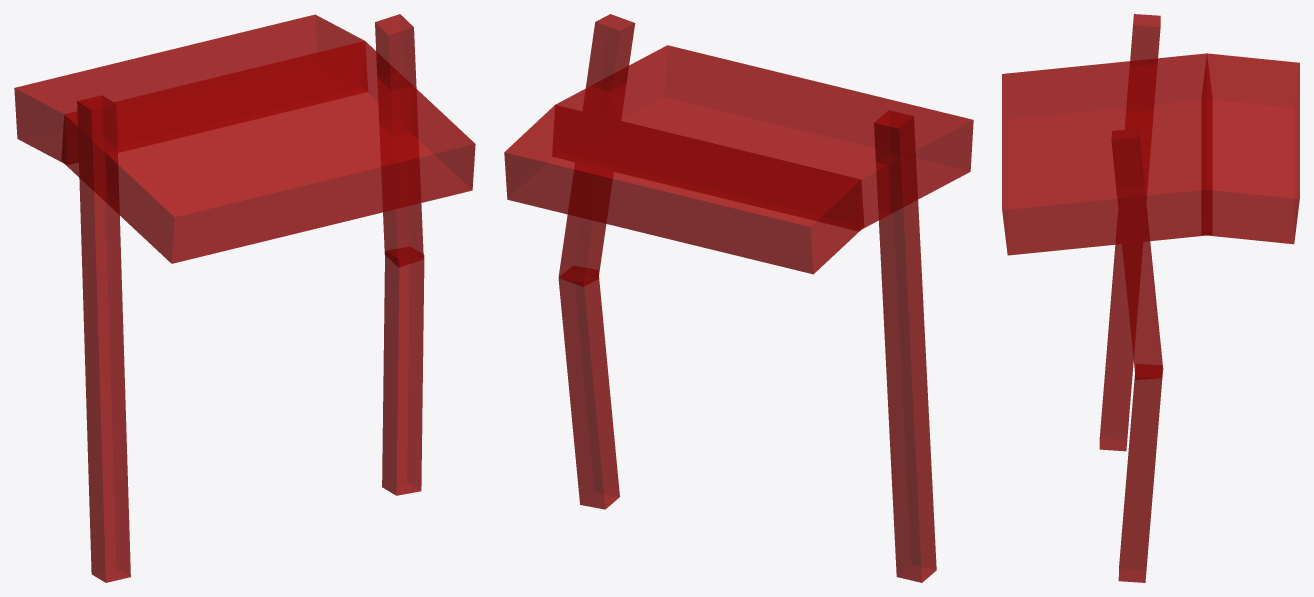
Rendered from SM_Prop_Jetty_Broken_01_Collision.fbx.
3 renders of one model, left to right at view 1: azimuth 30°, elevation 25°; view 2: azimuth 150°, elevation 25°; view 3: azimuth 270°, elevation 25°, orthographic. The views are drawn at different scales.
Visible parts, largest first — view 1: SM_Prop_Jetty_Broken_01_Collision; view 2: SM_Prop_Jetty_Broken_01_Collision; view 3: SM_Prop_Jetty_Broken_01_Collision.
Boxes of the visible parts, x1,y1,x2,y2 form: SM_Prop_Jetty_Broken_01_Collision: (14,14,475,582); SM_Prop_Jetty_Broken_01_Collision: (504,14,973,582); SM_Prop_Jetty_Broken_01_Collision: (1002,14,1299,582).
Size of the model in its own units: 197 by 267 by 162.
